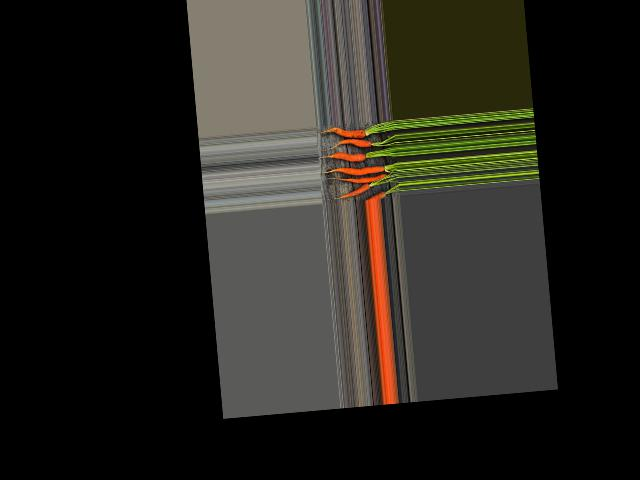carrot: (370, 187, 393, 200)
